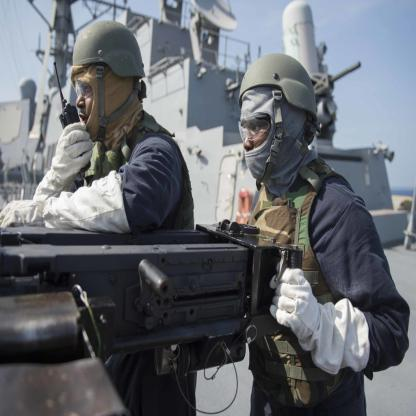Helmet: (239, 52, 319, 184), (73, 18, 146, 146)
